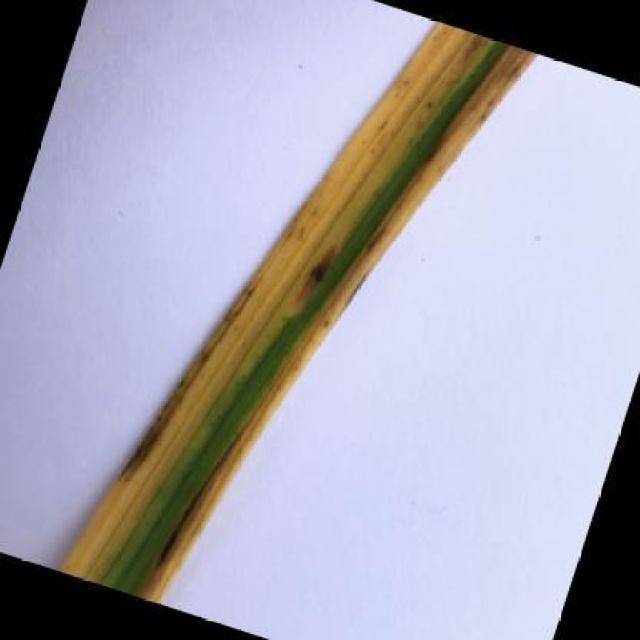Rice False Smut: (59, 0, 543, 640)
